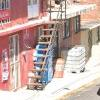stairs: (29, 23, 54, 87)
